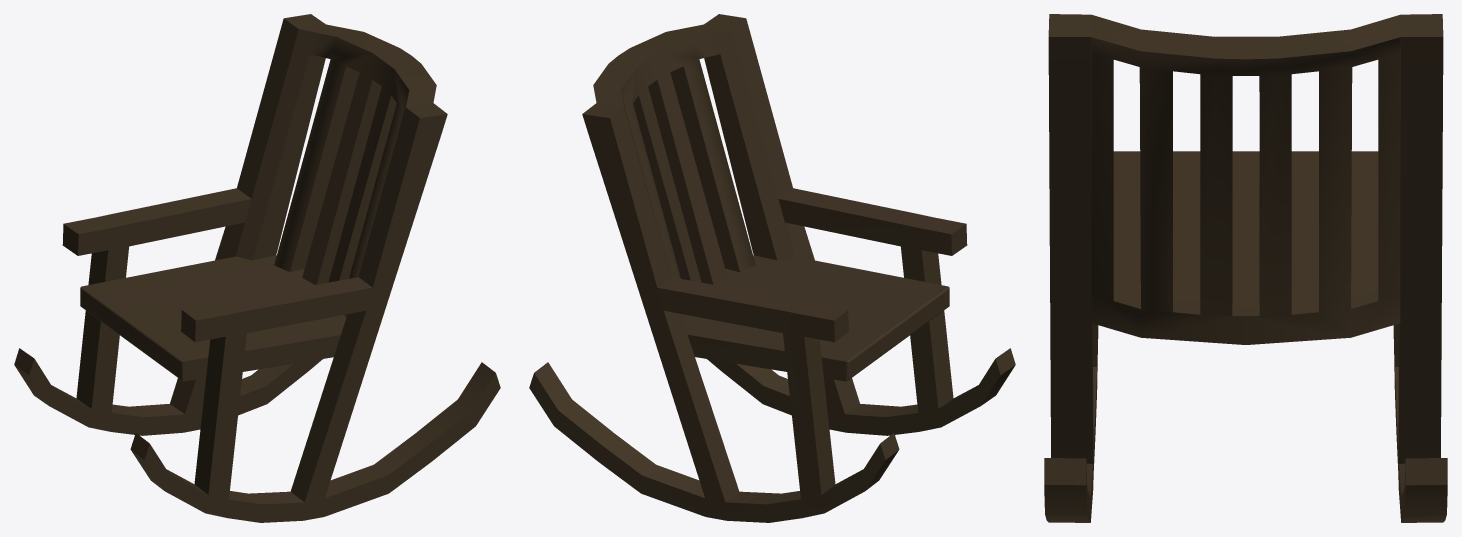
Rendered from rockingchair.fbx.
The picture shows the model from 3 angles, left to right: view 1: azimuth 30°, elevation 25°; view 2: azimuth 150°, elevation 25°; view 3: azimuth 270°, elevation 25°; orthographic projection. The views are drawn at different scales.
Visible parts, largest first — view 1: polySurface21; view 2: polySurface21; view 3: polySurface21.
Boxes of the visible parts, x1,y1,x2,y2 form: polySurface21: (14,14,500,522); polySurface21: (529,14,1015,522); polySurface21: (1044,14,1447,522).
Bounding box in the file's own units: 1.8 × 1.84 × 1.24.
